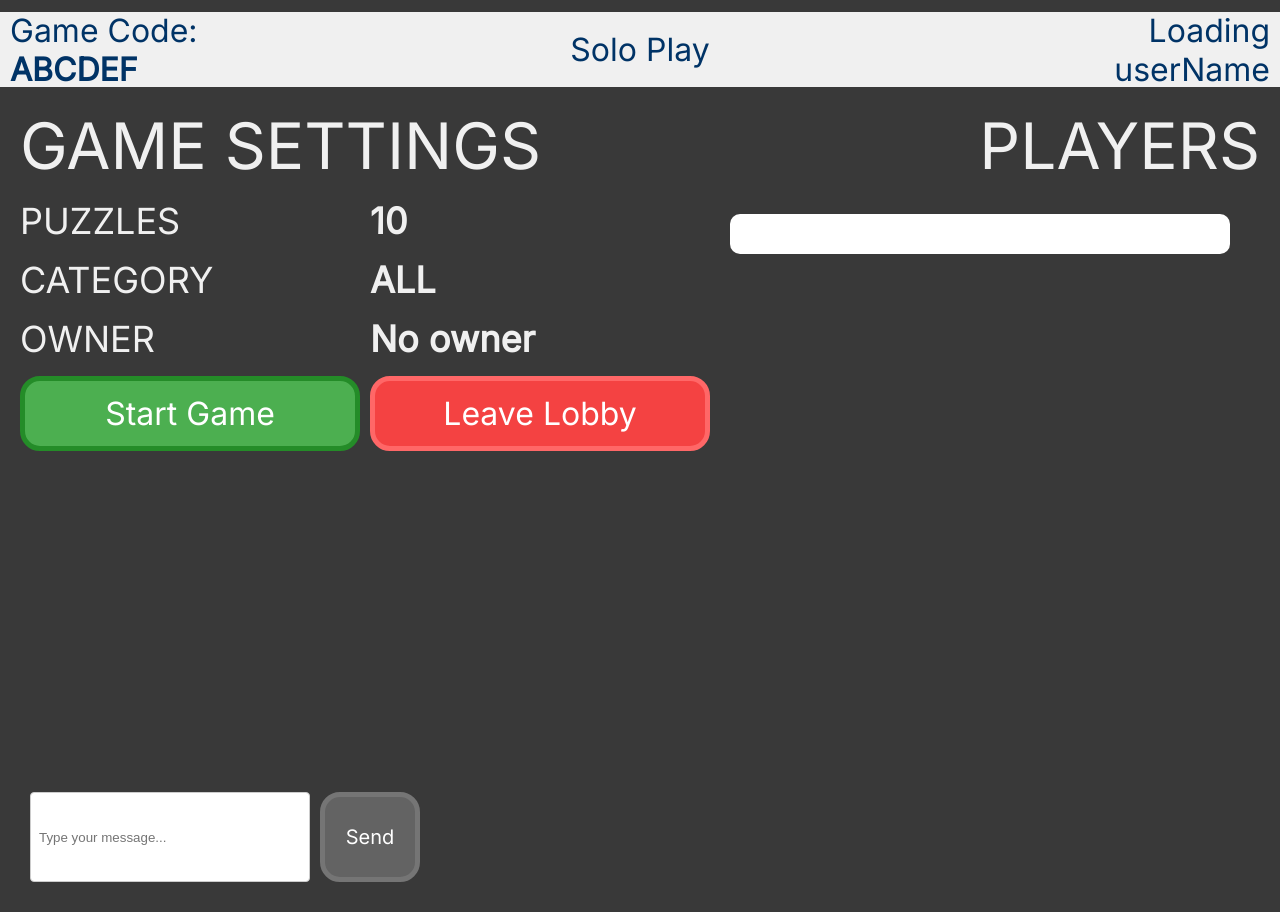
Test case: The Game Page › When a round starts, the client should have loaded all the words
Click the button "Start Game": (190, 414) [20, 376, 360, 451]
Wait 5000 ms
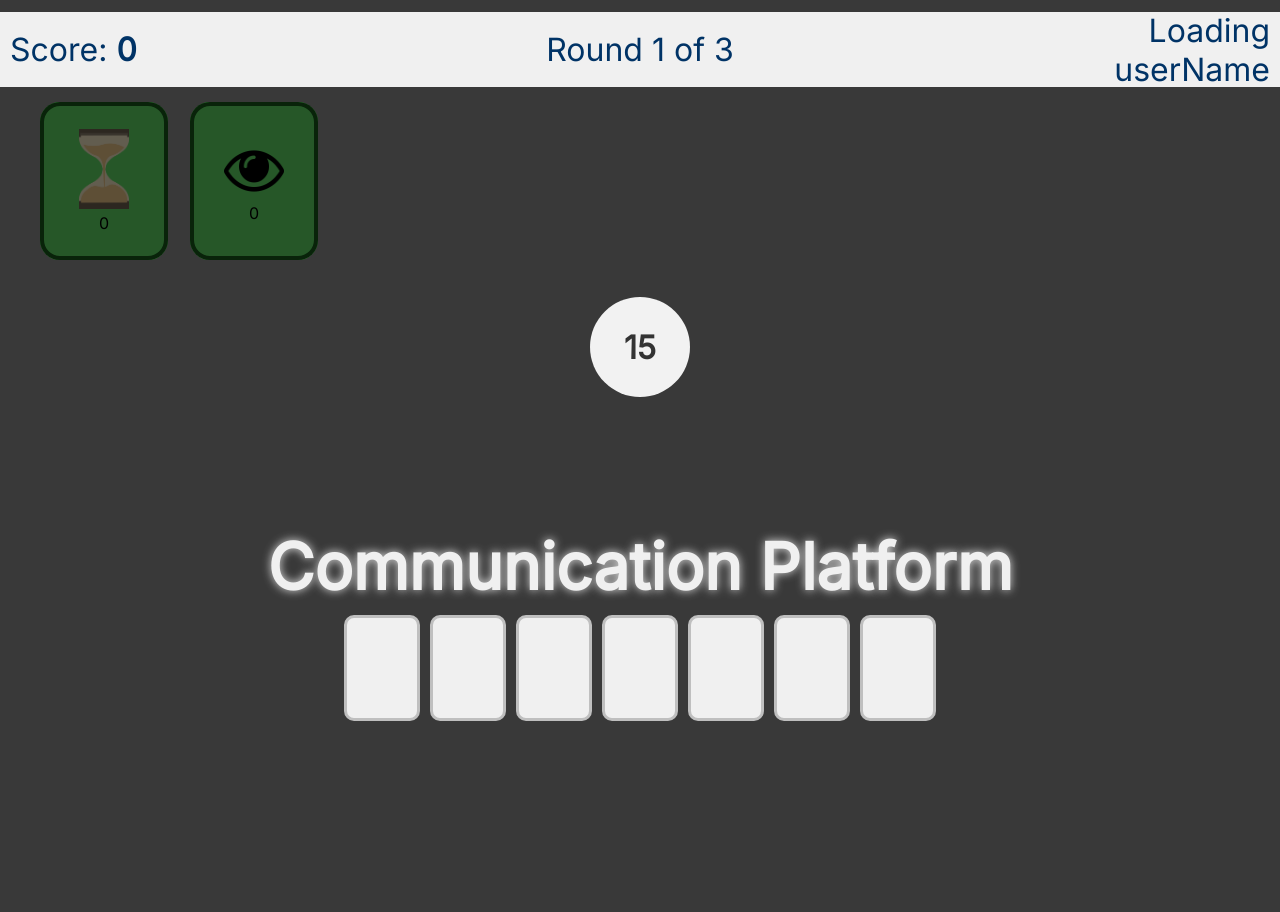
Result: the text with class "lobbyHeaderSide" reads "Round 1 of 3" at [546, 30, 734, 69]
